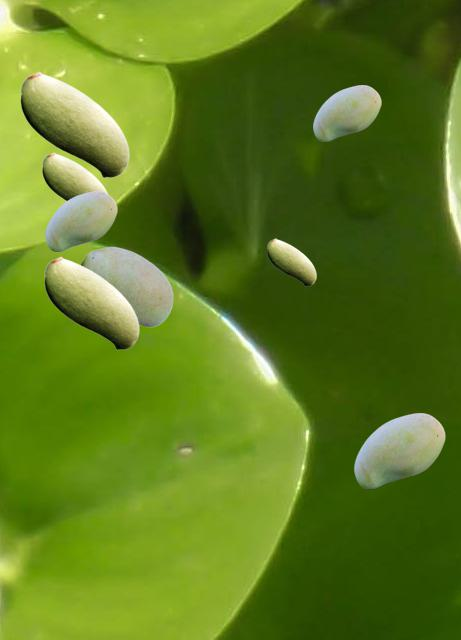green_mango: (20, 71, 128, 177), (44, 256, 138, 349), (80, 246, 172, 326), (354, 413, 444, 487), (45, 191, 116, 250), (313, 85, 380, 140), (42, 152, 108, 200), (267, 238, 315, 285)
